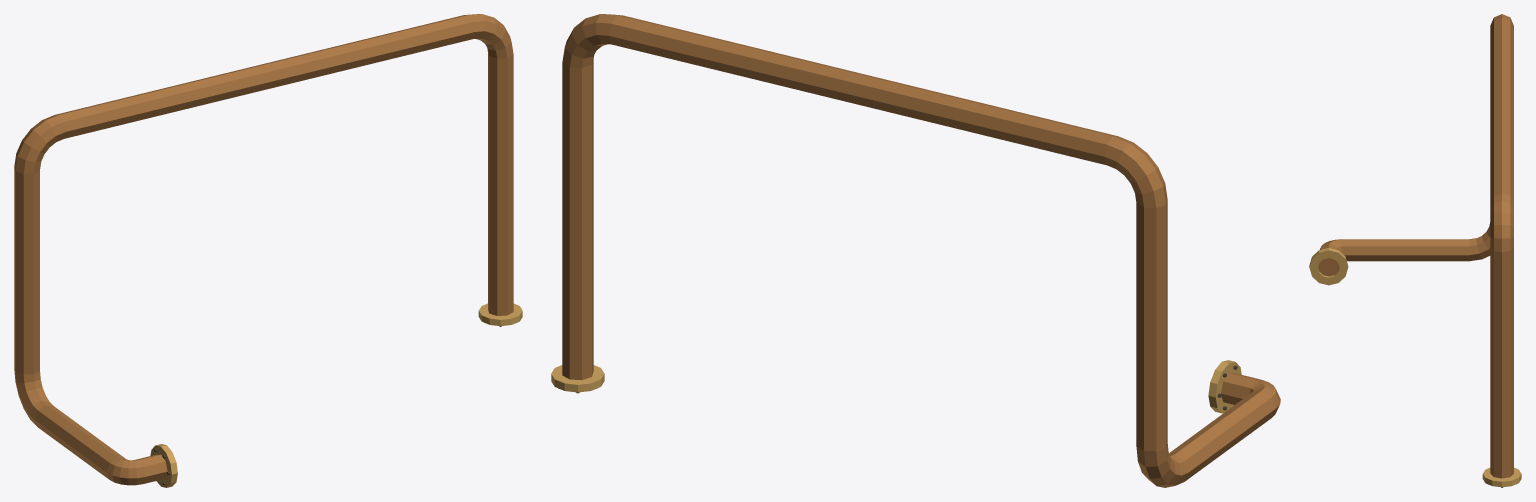
File: pipe_run_11.glb
3 renders of one model, left to right at view 1: azimuth 30°, elevation 25°; view 2: azimuth 150°, elevation 25°; view 3: azimuth 270°, elevation 25°, orthographic. The views are drawn at different scales.
Parts seen in each view (by area): view 1: Swept_pipe, End_1_Flange, End_0_Flange; view 2: Swept_pipe, End_1_Flange, End_0_Flange; view 3: Swept_pipe, End_0_Flange, End_1_Flange.
Part boxes in pixels (x1,y1,x2,y2): Swept_pipe: (14,14,513,485); End_1_Flange: (478,303,522,326); End_0_Flange: (150,444,177,487); Swept_pipe: (562,14,1280,487); End_1_Flange: (551,365,604,392); End_0_Flange: (1208,360,1241,413); Swept_pipe: (1318,14,1513,478); End_0_Flange: (1309,248,1348,285); End_1_Flange: (1482,467,1521,487).
Size of the model in its own units: 5.02 by 2.96 by 2.08.
